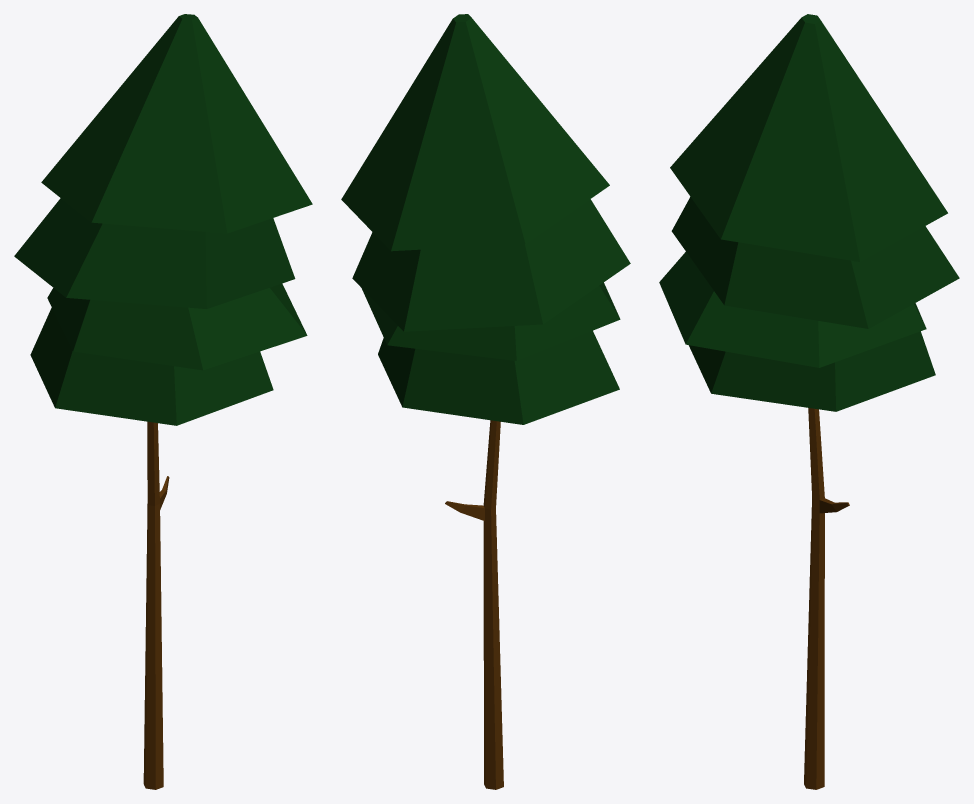
Rendered from pine4.glb.
3 views of the same model, side by side, from view 1: azimuth 30°, elevation 25°; view 2: azimuth 150°, elevation 25°; view 3: azimuth 270°, elevation 25° (orthographic). The views are drawn at different scales.
Visible parts, largest first — view 1: prefab; view 2: prefab; view 3: prefab.
Part boxes in pixels (bbox=[...]): prefab: bbox=[14, 14, 312, 789]; prefab: bbox=[341, 14, 630, 789]; prefab: bbox=[659, 14, 959, 789].
Size of the model in its own units: 3.35 by 10 by 3.47.
